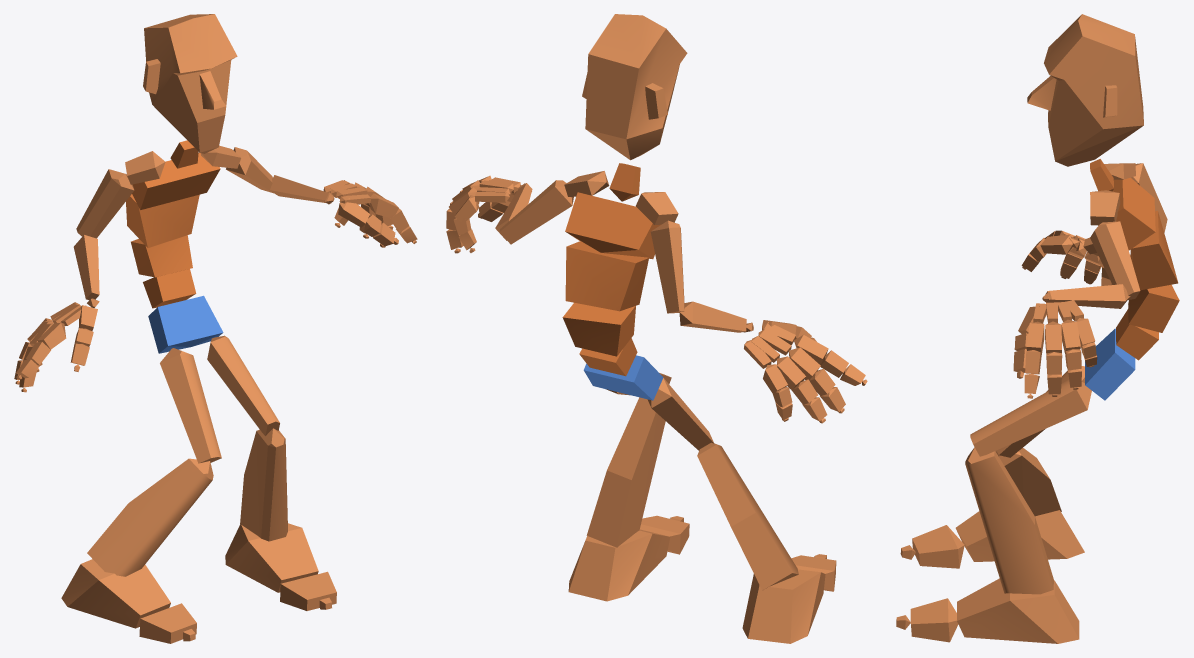
File: prueba211.obj
3 views of the same model, side by side, from view 1: azimuth 30°, elevation 25°; view 2: azimuth 150°, elevation 25°; view 3: azimuth 270°, elevation 25° (orthographic). The views are drawn at different scales.
Visible parts, largest first — view 1: BOPED_Head, BOPED_R_leg, BOPED_R_foot, BOPED_L_leg, BOPED_R_foot01, BOPED_R_legup, Bone01, BOPED_L_legup, Bone04, Bone05, BOPED_R_arm_upper, Bone03 (+8 smaller); view 2: BOPED_Head, BOPED_L_leg, BOPED_R_leg, BOPED_R_foot01, BOPED_R_foot, Bone04, Bone05, Bone03, BOPED_R_arm_upper, BOPED_L_arm_upper, Bone01, BOPED_R_legup (+8 smaller); view 3: BOPED_Head, BOPED_L_leg, BOPED_R_foot01, BOPED_L_legup, BOPED_R_foot, BOPED_R_leg, BOPED_L_arm_upper, Bone05, Bone04, Bone01, Bone03, BOPED_R_foot_toe01 (+12 smaller).
Part boxes in pixels (x1,y1,x2,y2): BOPED_Head: (143, 14, 237, 153); BOPED_R_leg: (87, 458, 213, 576); BOPED_R_foot: (61, 559, 170, 628); BOPED_L_leg: (240, 428, 287, 541); BOPED_R_foot01: (225, 523, 318, 592); BOPED_R_legup: (160, 348, 221, 463); Bone01: (148, 295, 223, 353); BOPED_L_legup: (207, 335, 279, 435); Bone04: (126, 194, 199, 247); Bone05: (132, 152, 220, 209); BOPED_R_arm_upper: (76, 169, 134, 238); Bone03: (131, 235, 192, 277); BOPED_Head: (582, 14, 687, 160); BOPED_L_leg: (586, 397, 665, 547); BOPED_R_leg: (697, 442, 798, 590); BOPED_R_foot01: (568, 529, 670, 601); BOPED_R_foot: (742, 569, 825, 643); Bone04: (565, 241, 648, 311); Bone05: (565, 192, 660, 259); Bone03: (562, 302, 635, 356); BOPED_R_arm_upper: (650, 220, 684, 313); BOPED_L_arm_upper: (499, 180, 573, 244); Bone01: (583, 355, 663, 400); BOPED_R_legup: (647, 378, 714, 450); BOPED_Head: (1027, 14, 1143, 166); BOPED_L_leg: (965, 447, 1053, 594); BOPED_R_foot01: (957, 578, 1079, 643); BOPED_L_legup: (970, 380, 1091, 456); BOPED_R_foot: (955, 510, 1084, 561); BOPED_R_leg: (995, 448, 1061, 516); BOPED_L_arm_upper: (1090, 221, 1140, 300); Bone05: (1112, 177, 1155, 250); Bone04: (1130, 211, 1178, 290); Bone01: (1085, 328, 1135, 400); Bone03: (1128, 284, 1179, 332); BOPED_R_foot_toe01: (912, 525, 964, 568).
Bounding box in the file's own units: 130 × 173 × 76.37.
